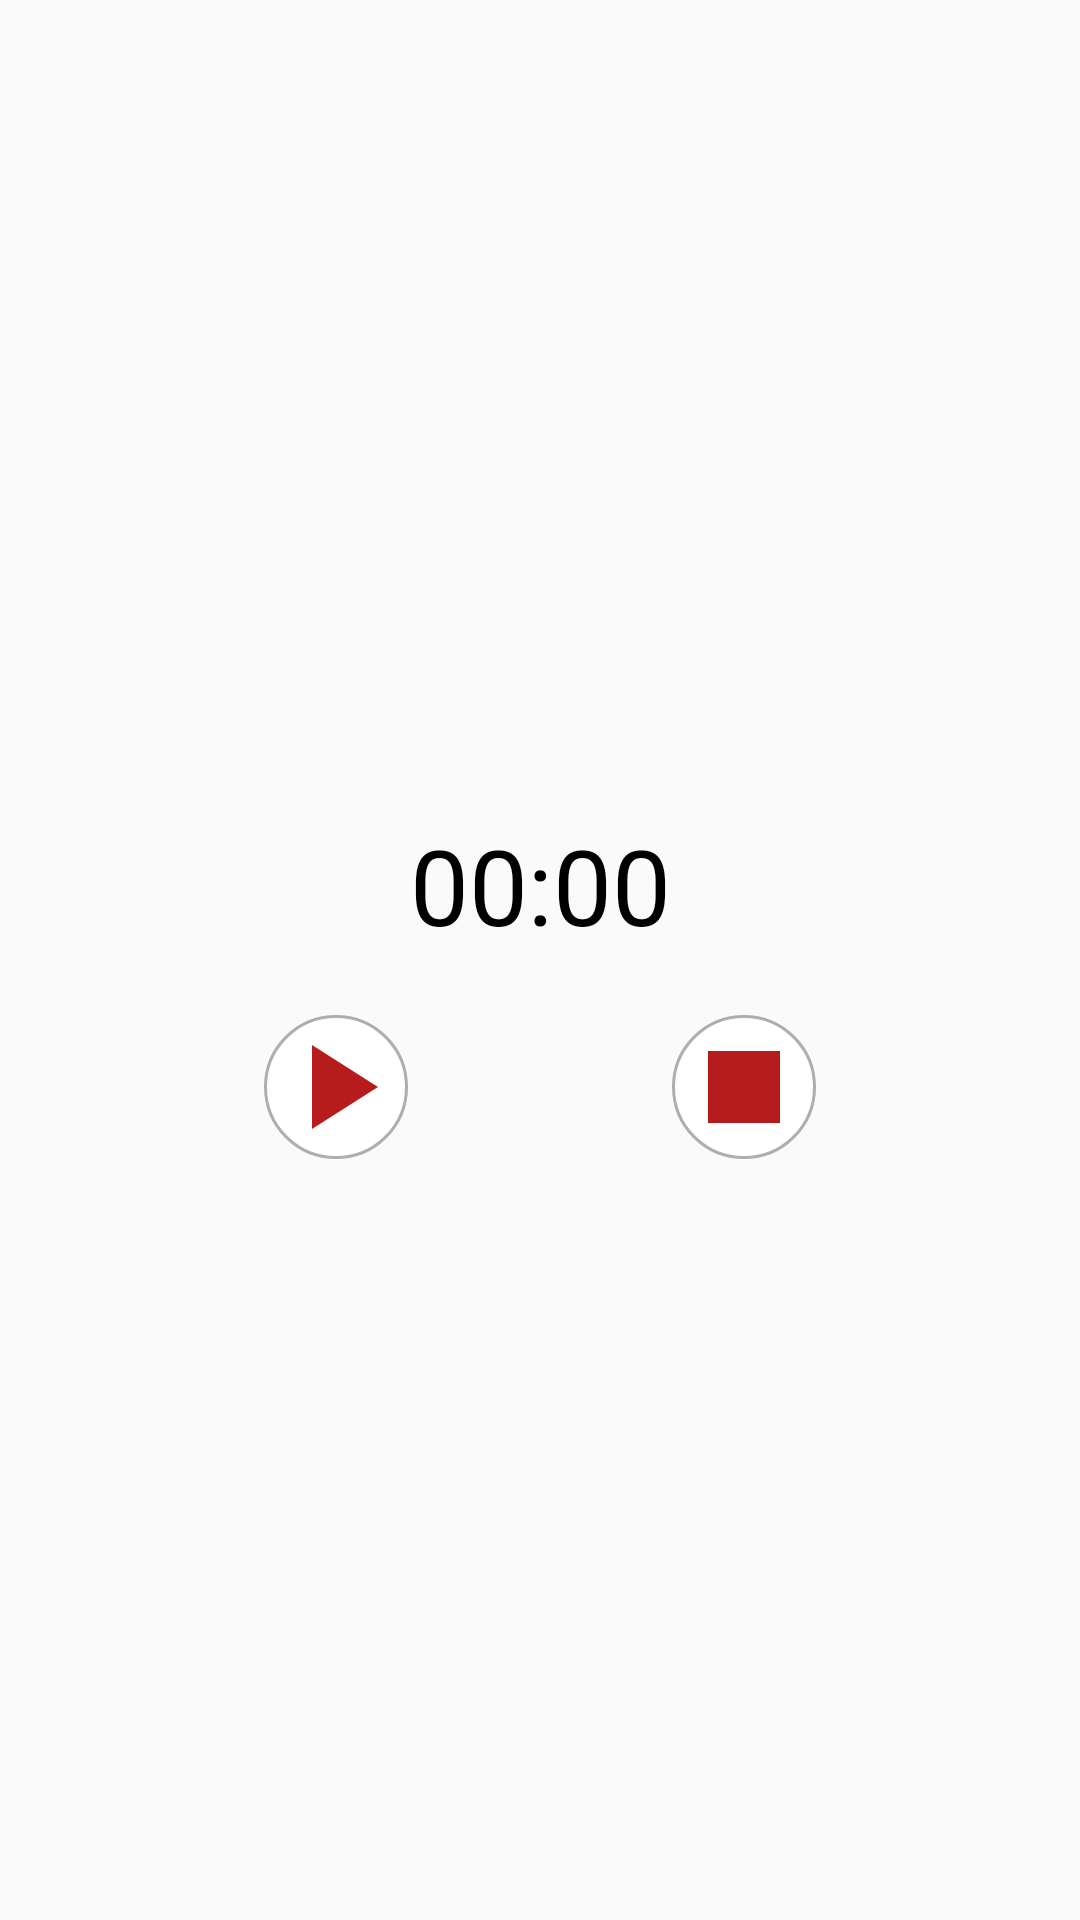

Icon click points for this 1080px×1920px phone screenshot, format [x,y]:
play arrow: [336,1087]
stop: [744,1087]
